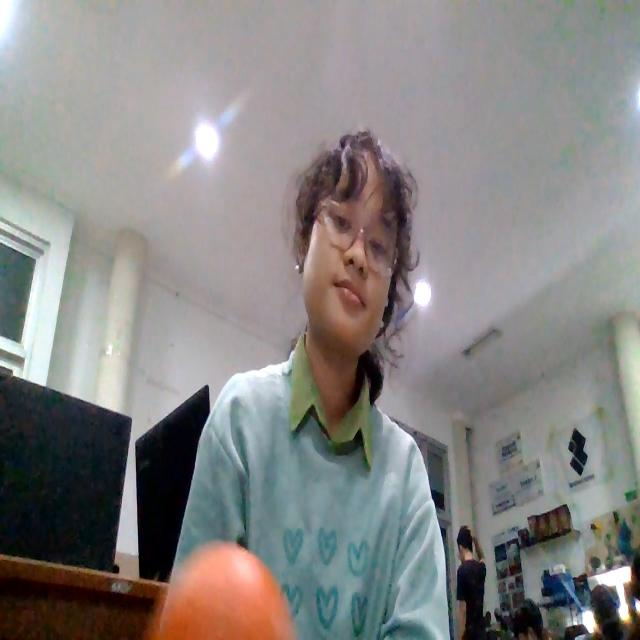ball: (156, 540, 296, 639)
